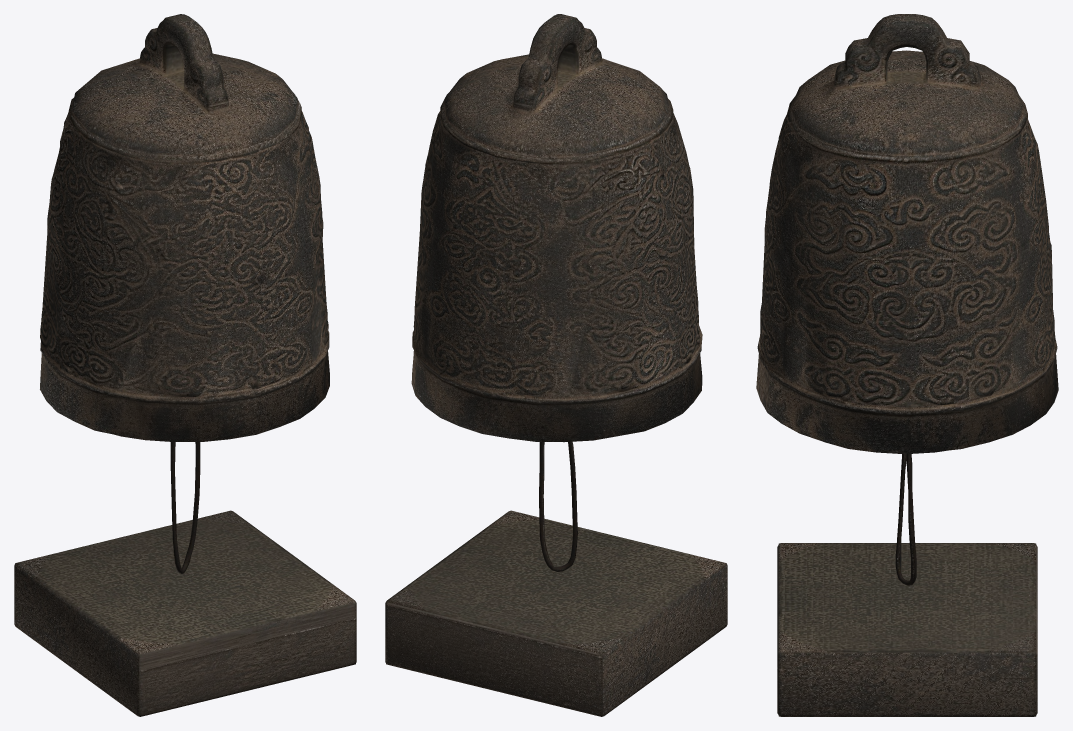
The model's file is tripo_convert_0af905cc-e63d-4f2d-b8ca-563b1ceda603.fbx.
The picture shows the model from 3 angles, left to right: view 1: azimuth 30°, elevation 25°; view 2: azimuth 150°, elevation 25°; view 3: azimuth 270°, elevation 25°; orthographic projection. The views are drawn at different scales.
Visible parts, largest first — view 1: tripo_node_0af905cc; view 2: tripo_node_0af905cc; view 3: tripo_node_0af905cc.
Boxes of the visible parts, x1,y1,x2,y2 form: tripo_node_0af905cc: (14, 14, 356, 716); tripo_node_0af905cc: (385, 14, 727, 716); tripo_node_0af905cc: (756, 14, 1058, 716).
Size of the model in its own units: 0.4238 by 0.998 by 0.4238.
Materials: 1 (1 with a texture image).
